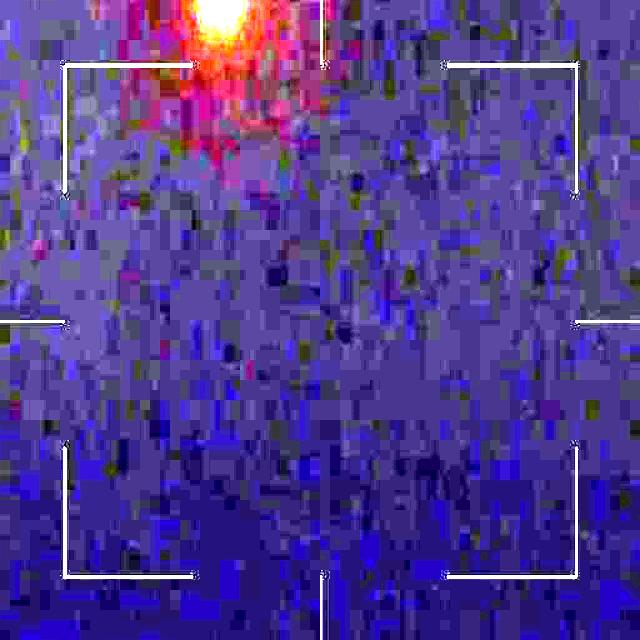bird: (198, 0, 246, 25)
